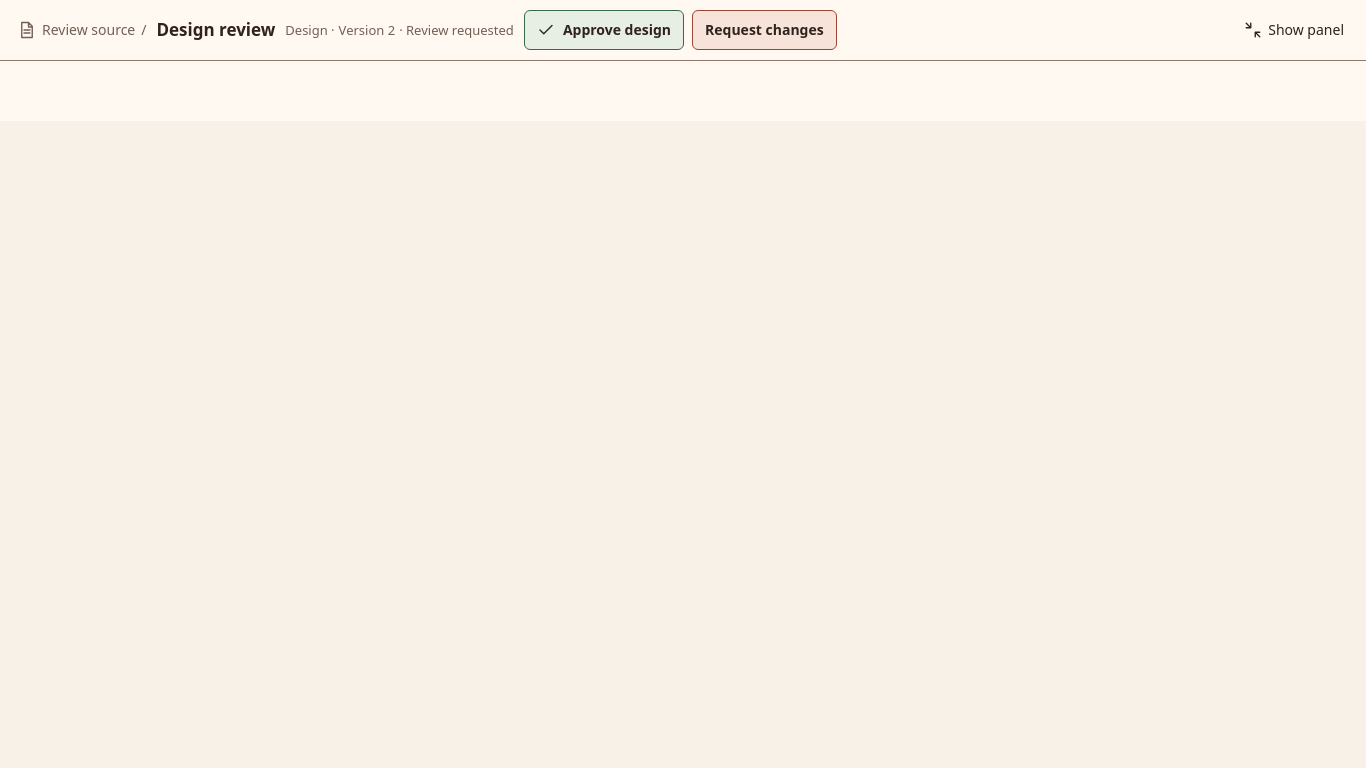
source-bound design review › shows the recipient once — the panel chip, never the composer's own To picker (finding 5)
Click the button "Request changes": (764, 30) [692,10,837,50]
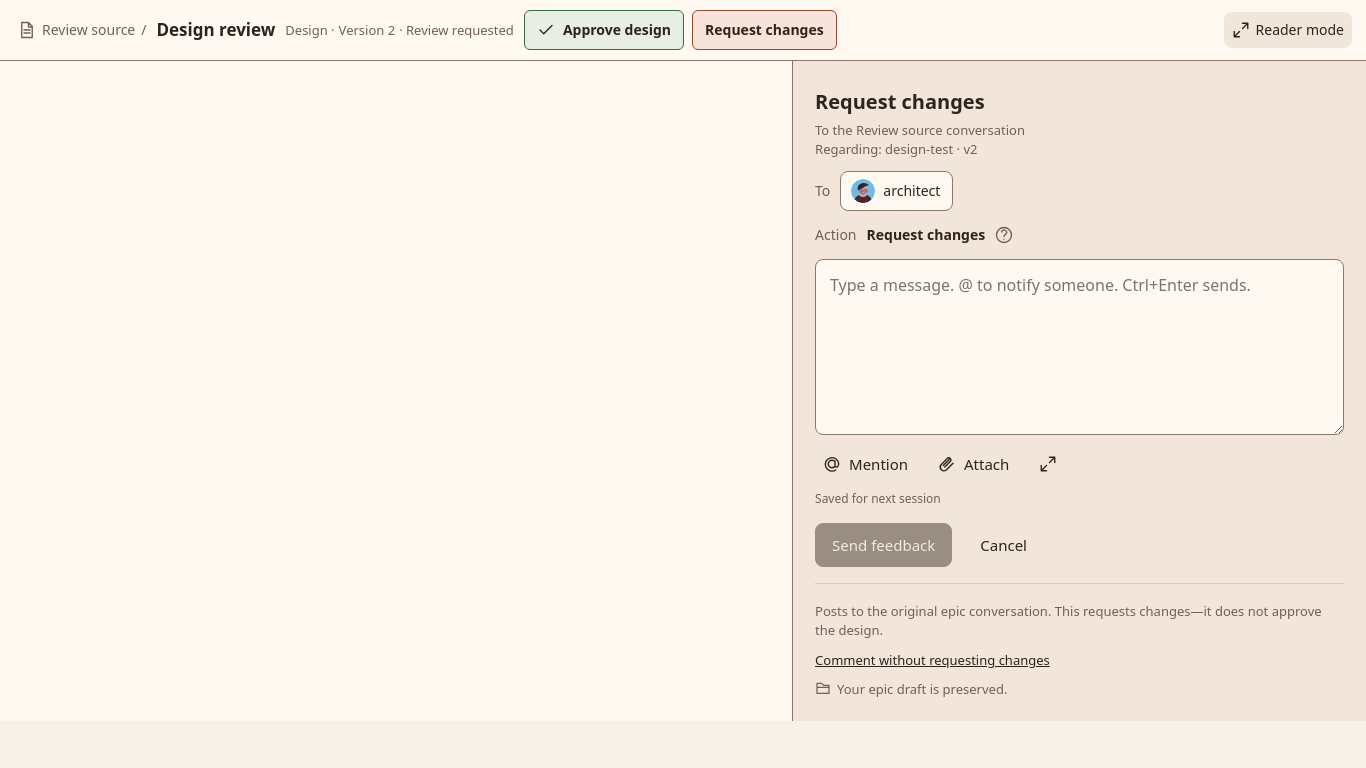
Result: the text box is shown at [815,259,1344,435]
Result: the text "architect" is shown once at [840,171,953,211]
